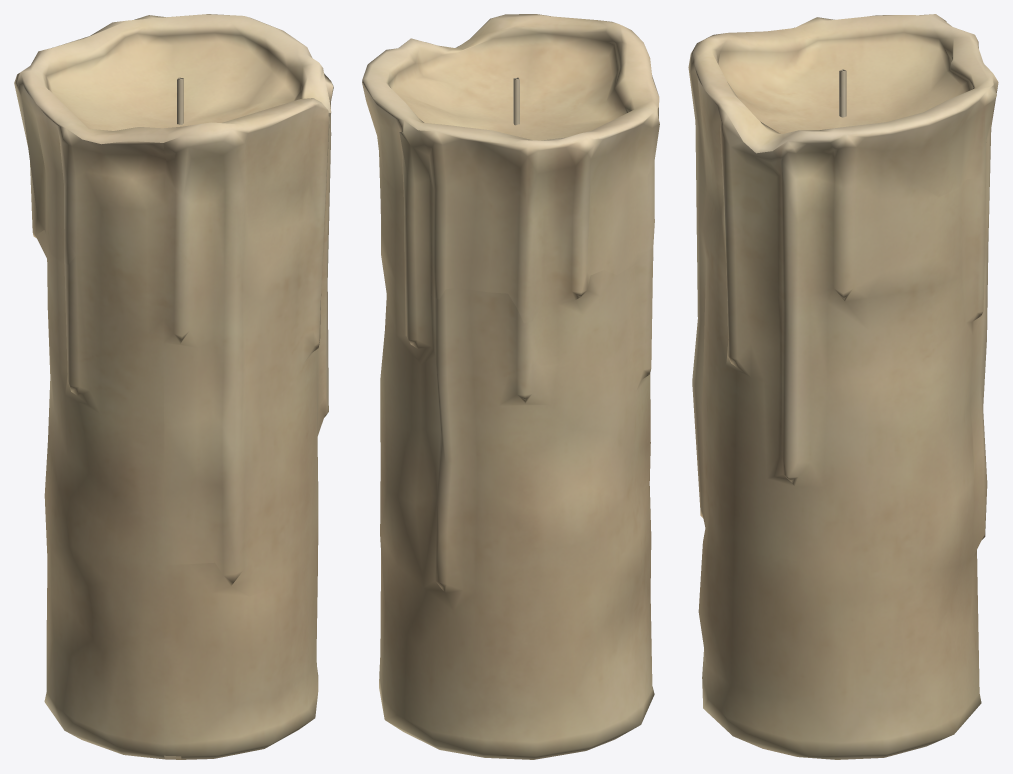
Rendered from SM_Candle_A.fbx.
The picture shows the model from 3 angles, left to right: view 1: azimuth 30°, elevation 25°; view 2: azimuth 150°, elevation 25°; view 3: azimuth 270°, elevation 25°; orthographic projection.
Visible parts, largest first — view 1: SM_Candle_A_LOD0; view 2: SM_Candle_A_LOD0; view 3: SM_Candle_A_LOD0.
Boxes of the visible parts, x1,y1,x2,y2 form: SM_Candle_A_LOD0: [14, 14, 333, 759]; SM_Candle_A_LOD0: [362, 14, 659, 759]; SM_Candle_A_LOD0: [688, 14, 998, 759].
Size of the model in its own units: 12.15 by 12.29 by 28.35.
